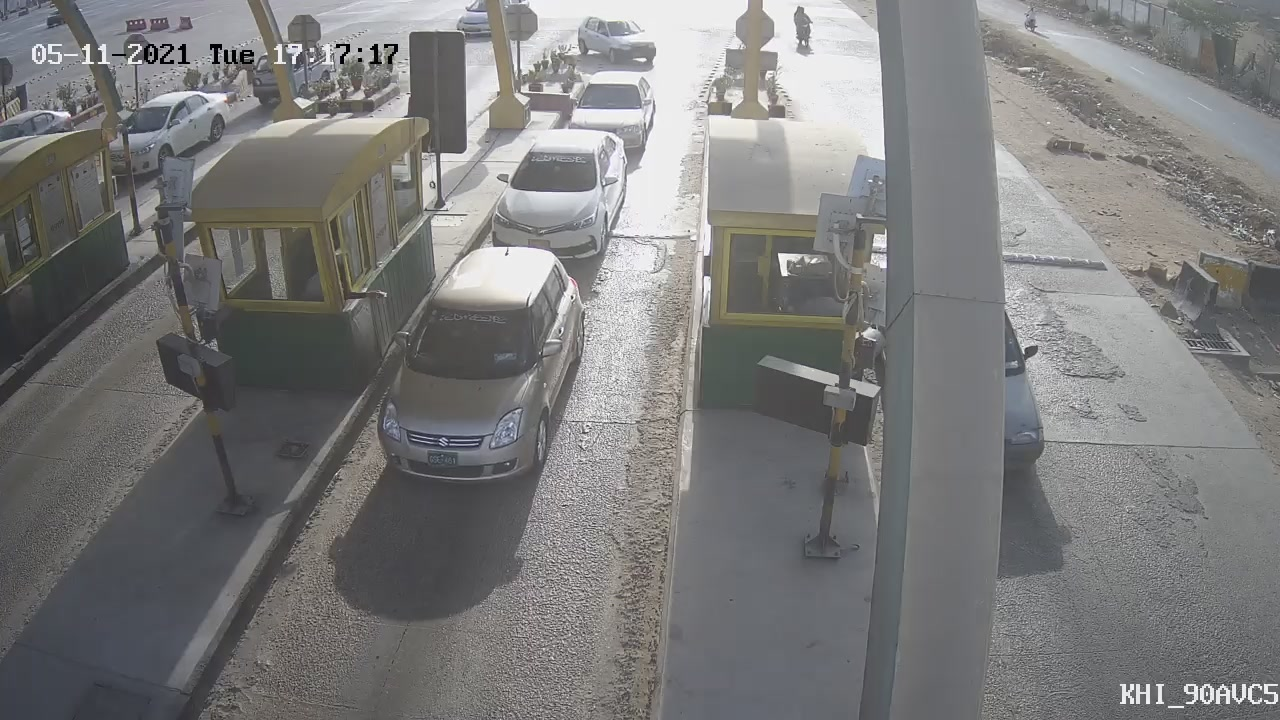F1: (360, 226, 601, 496), (469, 116, 647, 274)
